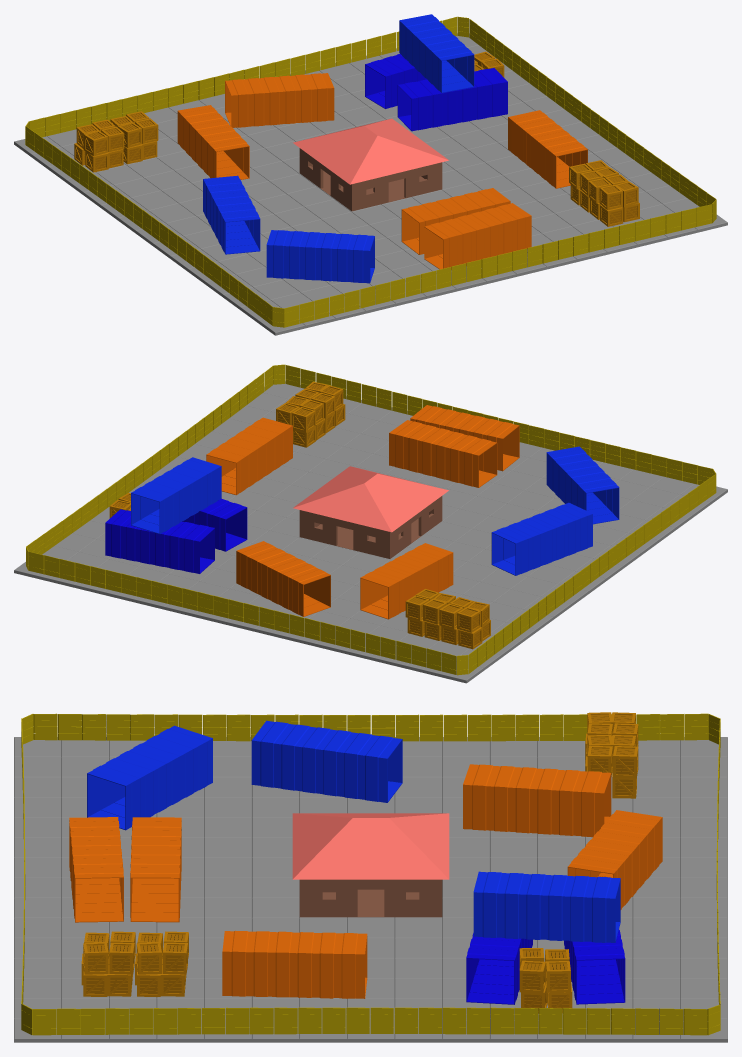
File: map.glb
3 views of the same model, one above another, from view 1: azimuth 30°, elevation 25°; view 2: azimuth 150°, elevation 25°; view 3: azimuth 270°, elevation 25° (orthographic). The views are drawn at different scales.
Parts seen in each view (by area): view 1: Floor-convcol, Fence-col, Roof, Container-col.005, Container-col.007, Container-col.009, Container-col.002, Container-col.001, House-col, Container-col.006, Crates-convcol.003, Container-col.003 (+4 smaller); view 2: Floor-convcol, Fence-col, Roof, Container-col.010, Container-col.008, Container-col.005, Container-col.001, Container-col.004, Container-col.003, Container-col.006, House-col, Crates-convcol.003 (+4 smaller); view 3: Floor-convcol, Fence-col, Roof, Container-col.008, Container-col.001, Container-col.006, Container-col.003, Container-col.007, Crates-convcol.001, House-col, Container-col.009, Container-col.010 (+5 smaller).
Part boxes in pixels (box(x1,y1,x2,y2)): Floor-convcol: box(14, 33, 727, 335); Fence-col: box(25, 16, 716, 327); Roof: box(293, 118, 448, 184); Container-col.005: box(225, 73, 334, 127); Container-col.007: box(266, 230, 374, 283); Container-col.009: box(424, 203, 531, 269); Container-col.002: box(397, 68, 507, 131); Container-col.001: box(399, 14, 474, 92); House-col: box(299, 148, 442, 211); Container-col.006: box(508, 110, 587, 188); Crates-convcol.003: box(74, 111, 158, 172); Container-col.003: box(177, 105, 249, 179); Floor-convcol: box(14, 381, 727, 683); Fence-col: box(26, 364, 716, 675); Roof: box(293, 466, 448, 532); Container-col.010: box(389, 420, 497, 487); Container-col.008: box(491, 502, 592, 575); Container-col.005: box(236, 541, 330, 616); Container-col.001: box(131, 457, 221, 534); Container-col.004: box(105, 509, 214, 573); Container-col.003: box(360, 543, 453, 619); Container-col.006: box(206, 417, 292, 495); House-col: box(299, 496, 442, 558); Crates-convcol.003: box(405, 589, 490, 649); Floor-convcol: box(14, 737, 727, 1042); Fence-col: box(21, 713, 720, 1035); Roof: box(292, 813, 449, 879); Container-col.008: box(251, 720, 402, 802); Container-col.001: box(473, 871, 620, 942); Container-col.006: box(222, 930, 367, 998); Container-col.003: box(463, 764, 611, 837); Container-col.007: box(87, 725, 212, 830); Crates-convcol.001: box(81, 931, 188, 997); House-col: box(299, 879, 442, 917); Container-col.009: box(69, 817, 123, 922); Container-col.010: box(130, 817, 181, 922).
Bounding box in the file's own units: 30 × 4.35 × 30.
